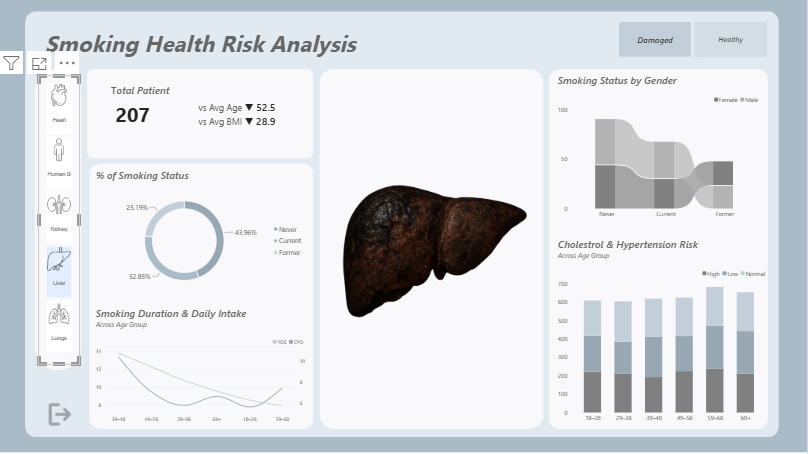

What the dashboard file says about the page in this screenshot:
{"tool":"powerbi","page":{"name":"Smoking Health Risk Analysis","canvas":[1920,1080],"ordinal":0},"visuals":[{"type":"cardVisual","fields":{"Data":["CountNonNull(health_dataset.Patient_ID)"]},"box":[228.6,178.6,497.6,185.7],"z":0},{"type":"textbox","box":[264.3,178.6,283.3,114.3],"z":1000},{"type":"advancedSlicerVisual","fields":{"Values":["condition.Organ_Condition"]},"box":[1473.8,52.4,352.4,83.3],"z":2000},{"type":"ChicletSlicer1448559807354","fields":{"Category":["Organs.Organ"],"Image":["Organs.Icon_URL"]},"box":[90.5,178.6,100,690.5],"z":3000},{"type":"image","box":[764.3,178.6,528.6,831],"z":4000},{"type":"donutChart","title":"% of Smoking Status","fields":{"Category":["health_dataset.Smoking_Status"],"Y":["CountNonNull(health_dataset.Smoking_Status)"]},"box":[211.9,385.7,531,328.6],"z":5000},{"type":"lineChart","title":"Smoking Duration & Daily Intake","fields":{"Category":["health_dataset.Age Group"],"Y":["Avg(health_dataset.Years_of_Smoking)"],"Y2":["Avg(health_dataset.Cigarettes_Per_Day)"]},"box":[211.9,714.3,531,311.9],"z":6000},{"type":"ribbonChart","title":"Smoking Status by Gender","fields":{"Category":["health_dataset.Smoking_Status"],"Series":["health_dataset.Gender"],"Y":["CountNonNull(health_dataset.Patient_ID)"]},"box":[1311.9,159.5,514.3,381],"z":6001},{"type":"columnChart","title":"Cholestrol & Hypertension Risk","fields":{"Category":["health_dataset.Age Group"],"Series":["health_dataset.BP_Risk"],"Y":["Avg(health_dataset.Cholesterol_Level)"]},"box":[1311.9,550,531,476.2],"z":6002},{"type":"textbox","box":[107.1,66.7,819,92.9],"z":6003}]}

Visuals, with their boxes on the page's 1920x1080 design canvas (x1, y1, x2, y2). These are canvas units, not pixel positions in the 808x454 screenshot, which may show the page scaled, cropped or inside an application window:
cardVisual - CountNonNull(health_dataset.Patient_ID): crop(229, 179, 726, 364)
textbox: crop(264, 179, 548, 293)
advancedSlicerVisual - condition.Organ_Condition: crop(1474, 52, 1826, 136)
ChicletSlicer1448559807354 - Organs.Organ x Organs.Icon_URL: crop(90, 179, 190, 869)
image: crop(764, 179, 1293, 1010)
"% of Smoking Status" donutChart: crop(212, 386, 743, 714)
"Smoking Duration & Daily Intake" lineChart: crop(212, 714, 743, 1026)
"Smoking Status by Gender" ribbonChart: crop(1312, 160, 1826, 540)
"Cholestrol & Hypertension Risk" columnChart: crop(1312, 550, 1843, 1026)
textbox: crop(107, 67, 926, 160)
